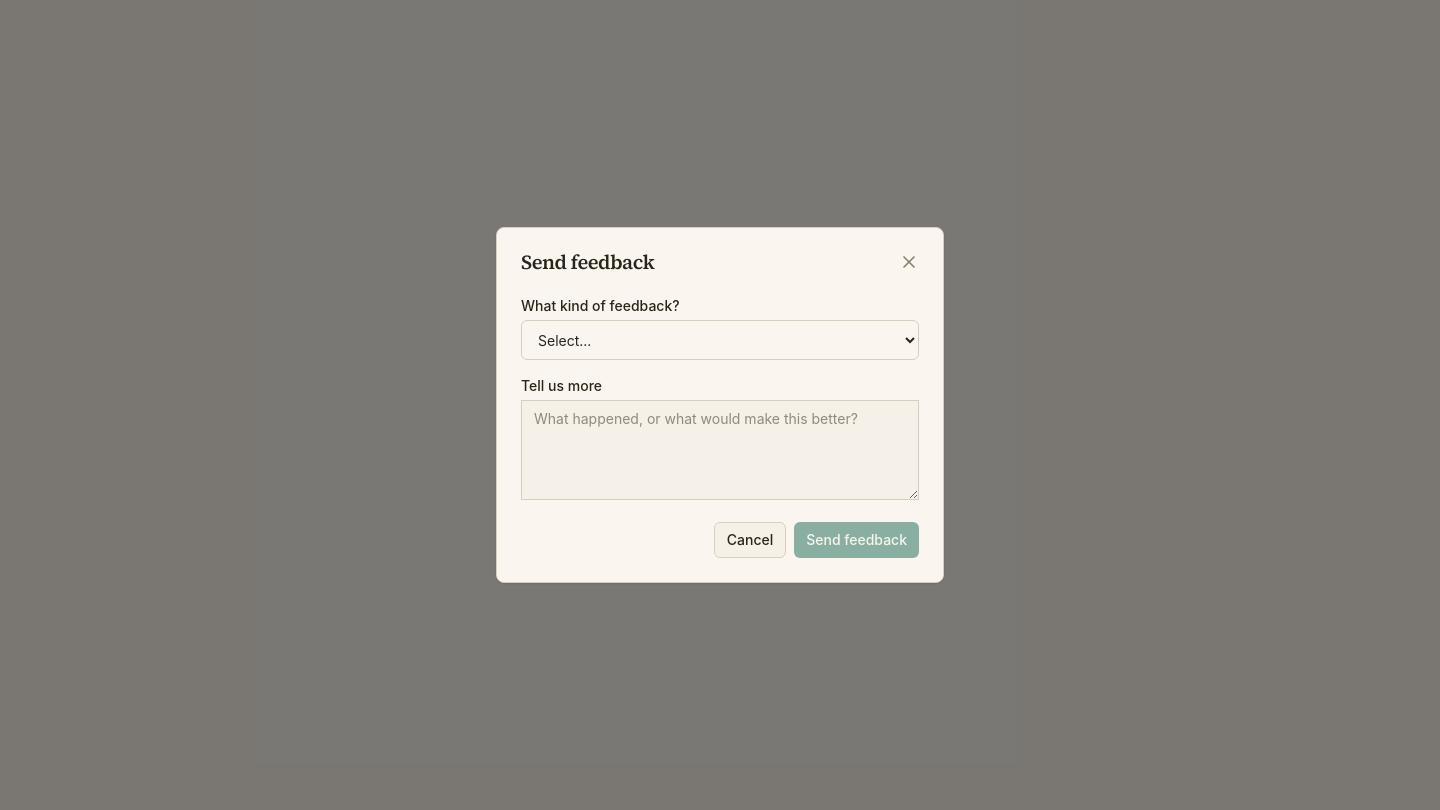
Test: FeedbackModal › submits feedback with the chosen category and message, then confirms
Select "The data looks wrong" in the dropdown named "Feedback category" at (720, 340), box [521,320,919,360]
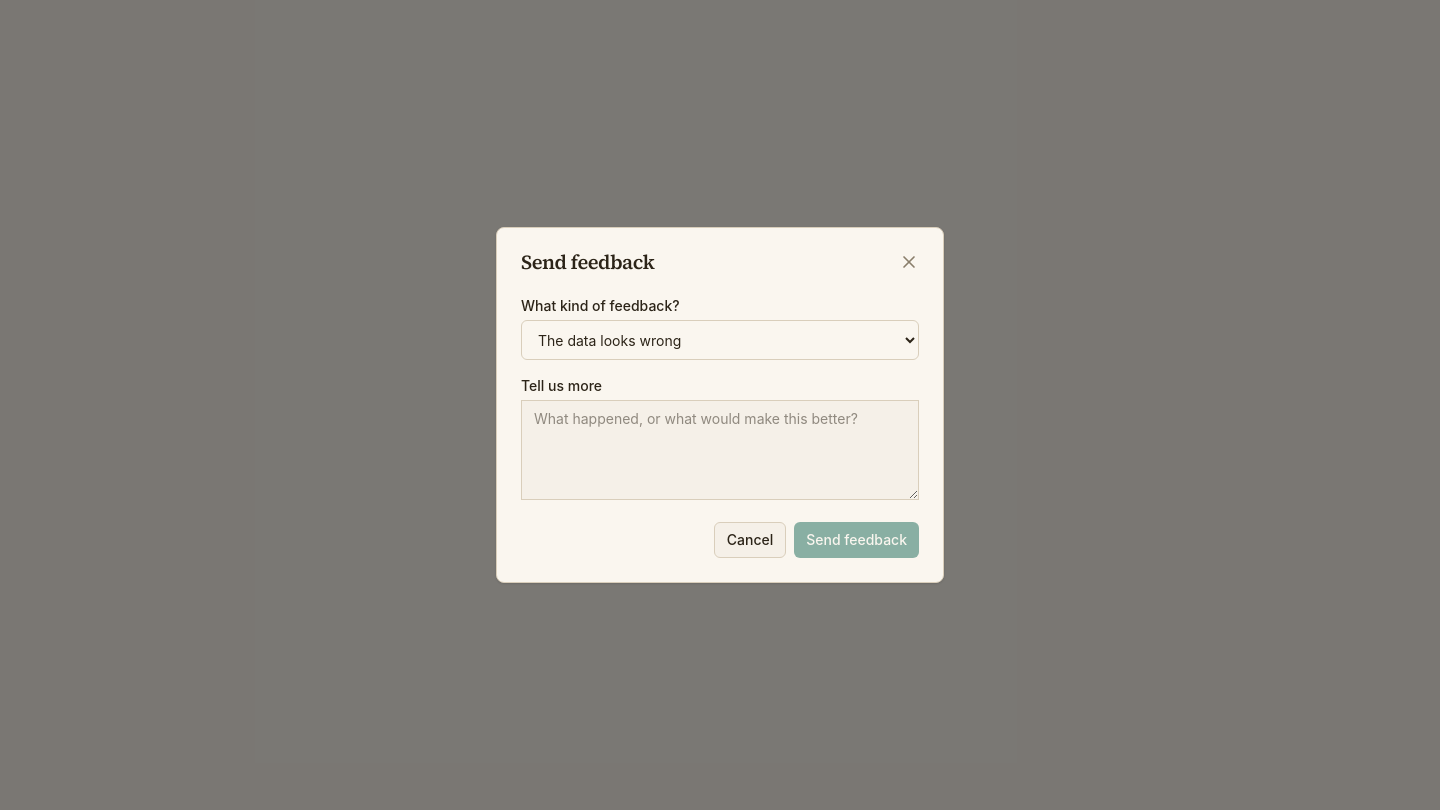
Type "OSHA count looks off." into the text box labelled "Tell us more" at (720, 450), box [521,400,919,500]
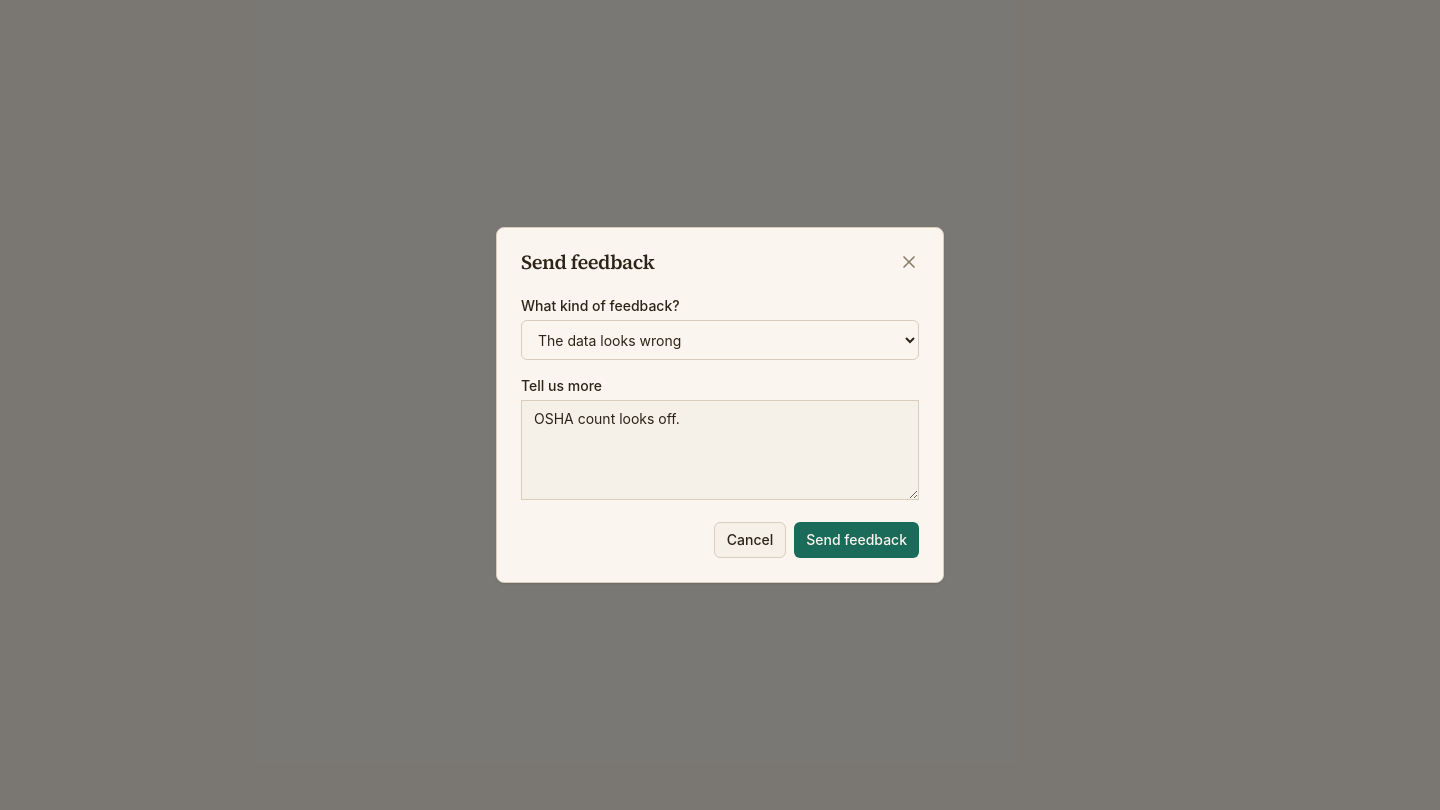
Submit the form "Send feedback", box [521,296,919,558]
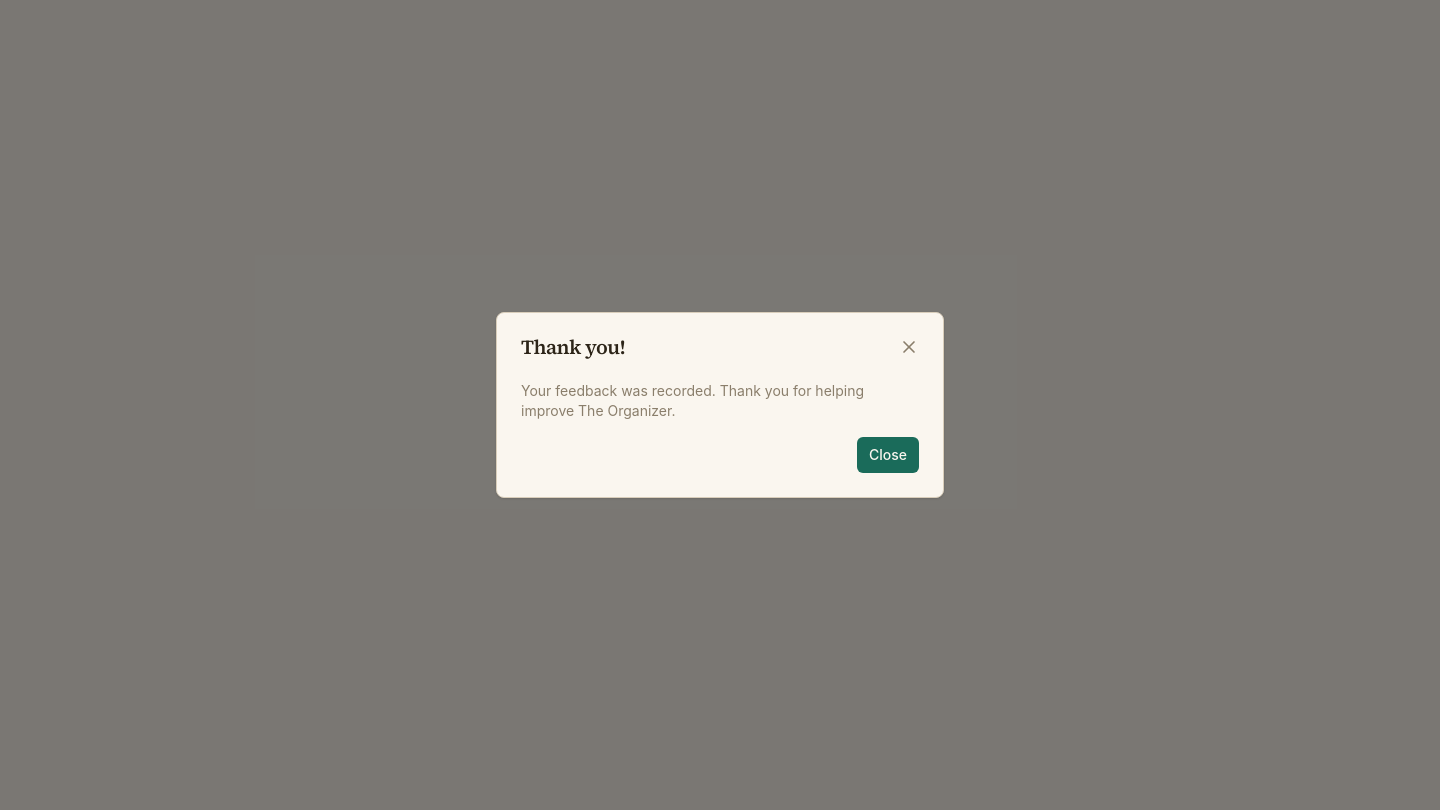
Expected: the heading "Thank you!" is shown, [521,337,625,357]
